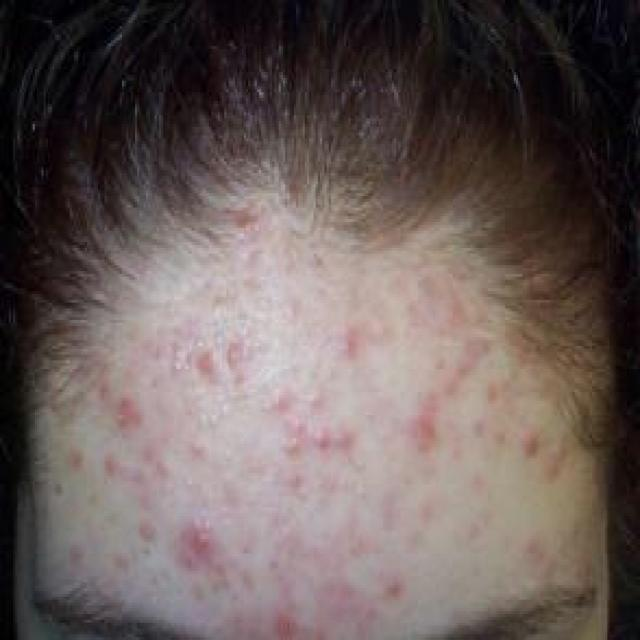Acne: (177, 518, 217, 573), (310, 421, 363, 456), (410, 414, 438, 456), (284, 414, 306, 458), (113, 392, 139, 428), (272, 608, 298, 640), (195, 346, 218, 379), (101, 451, 119, 478)
